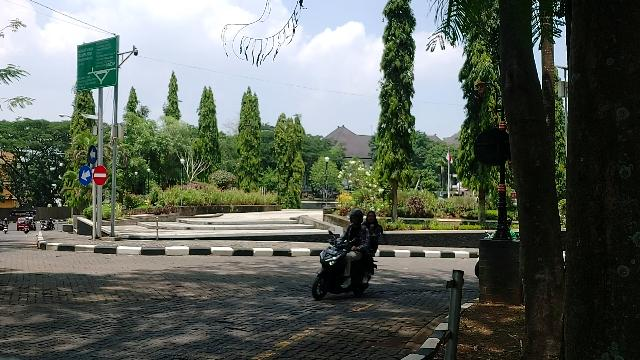helm: (350, 210, 364, 224), (368, 212, 377, 223)
motor: (314, 239, 379, 302)
